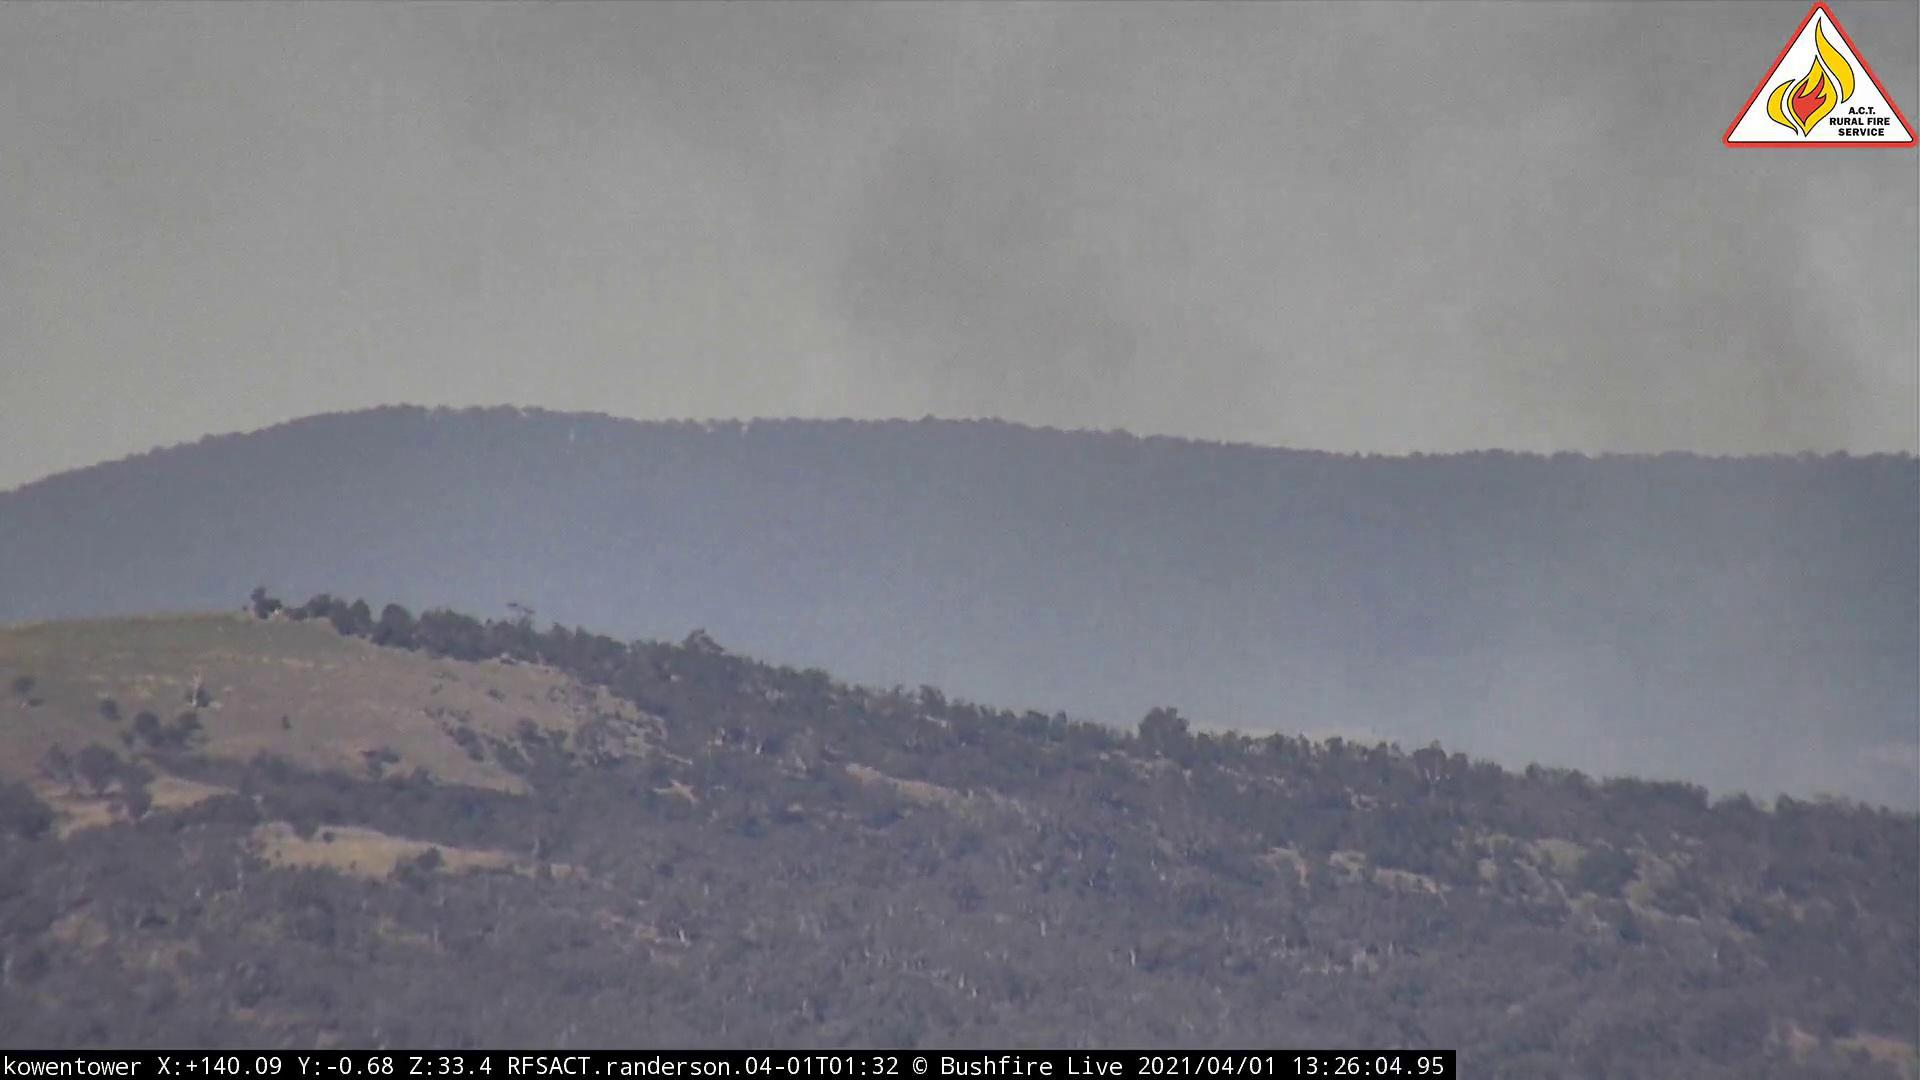instance_salient_object: (804, 3, 1920, 758)
